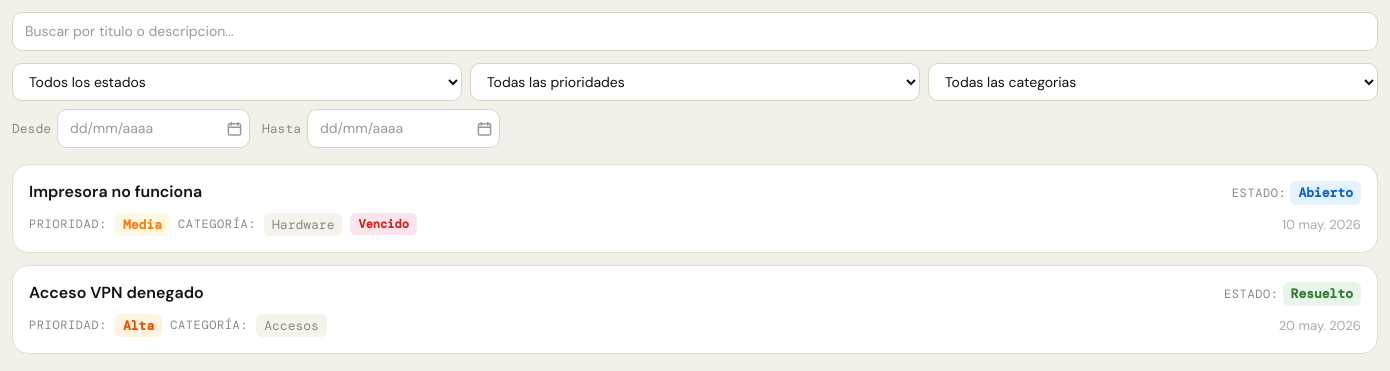
TicketList — busqueda y filtros de fecha › filtra por titulo con busqueda
Type "impresora" into the field with placeholder "Buscar por titulo o descripcion..." at (695, 32), box [12,12,1378,51]
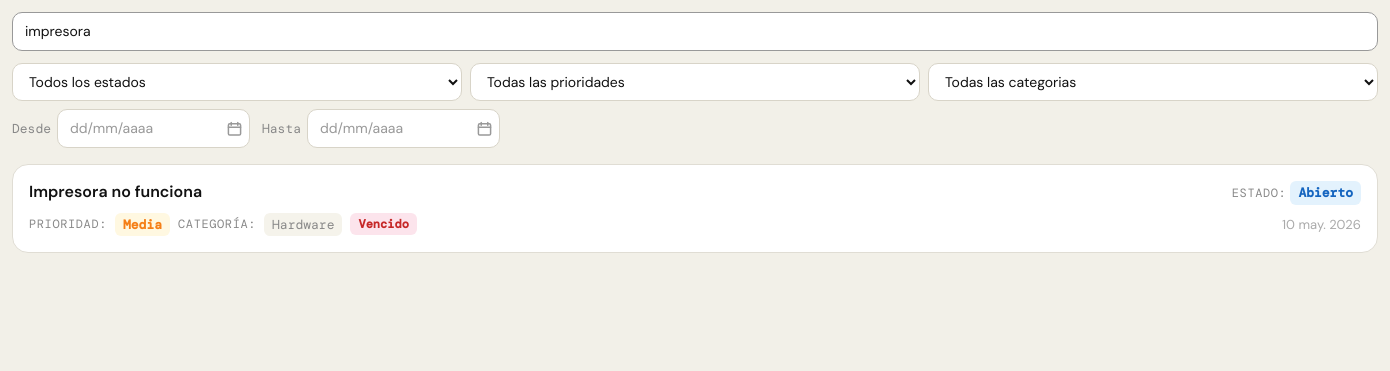
Expected: the text "Impresora no funciona" is shown, [29,181,202,202]
Expected: the button "Acceso VPN denegado" is gone
